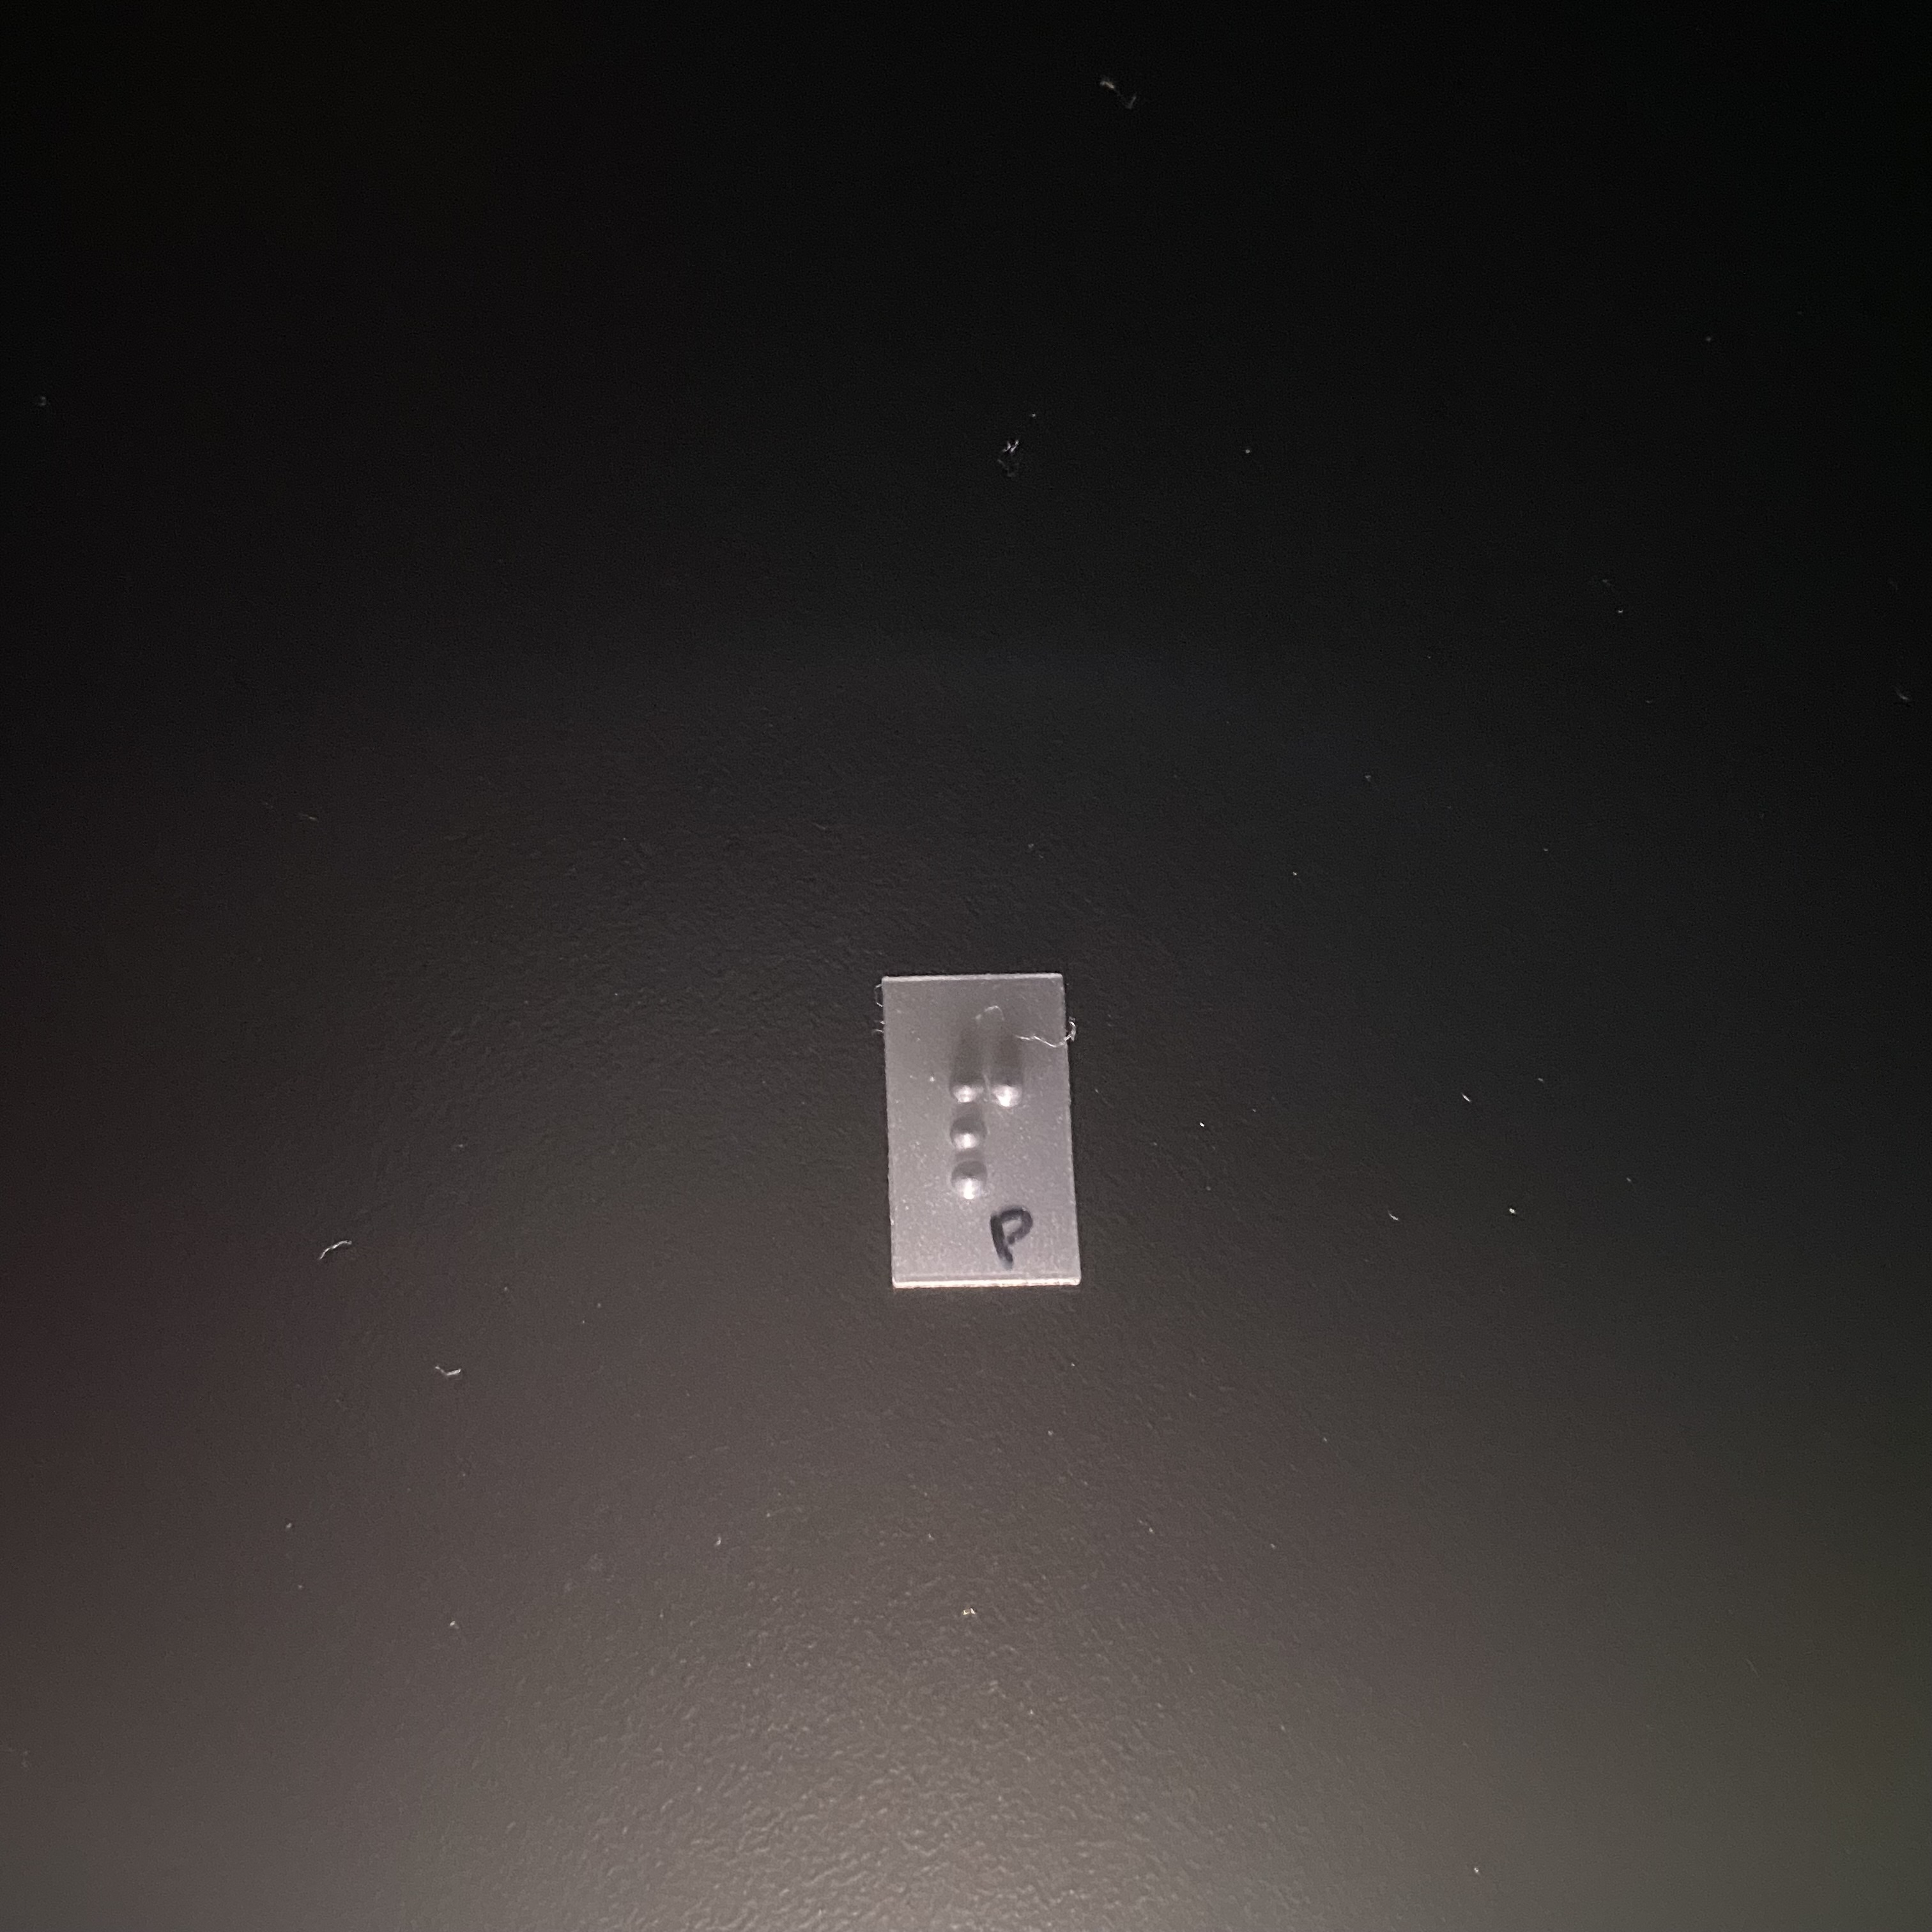p: (944, 1044, 1036, 1211)
